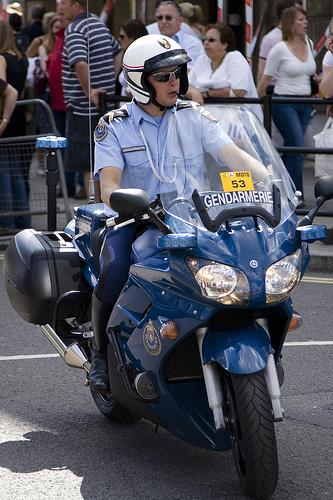motorbike: (5, 189, 324, 497)
